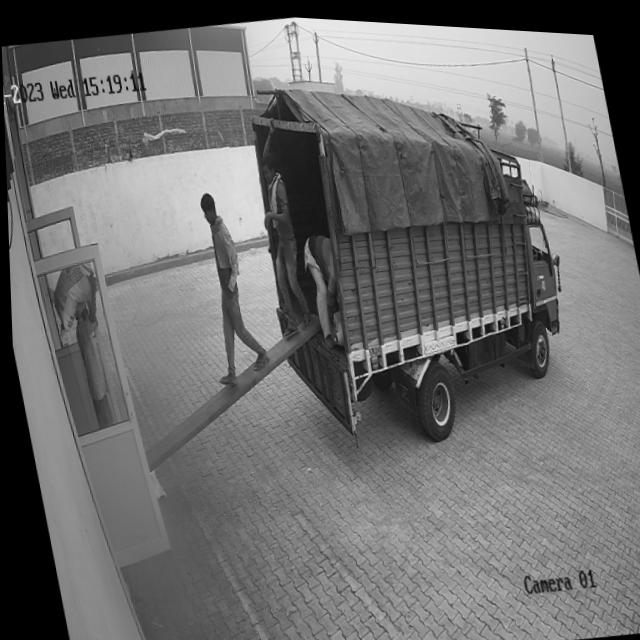sack: (42, 259, 99, 338)
